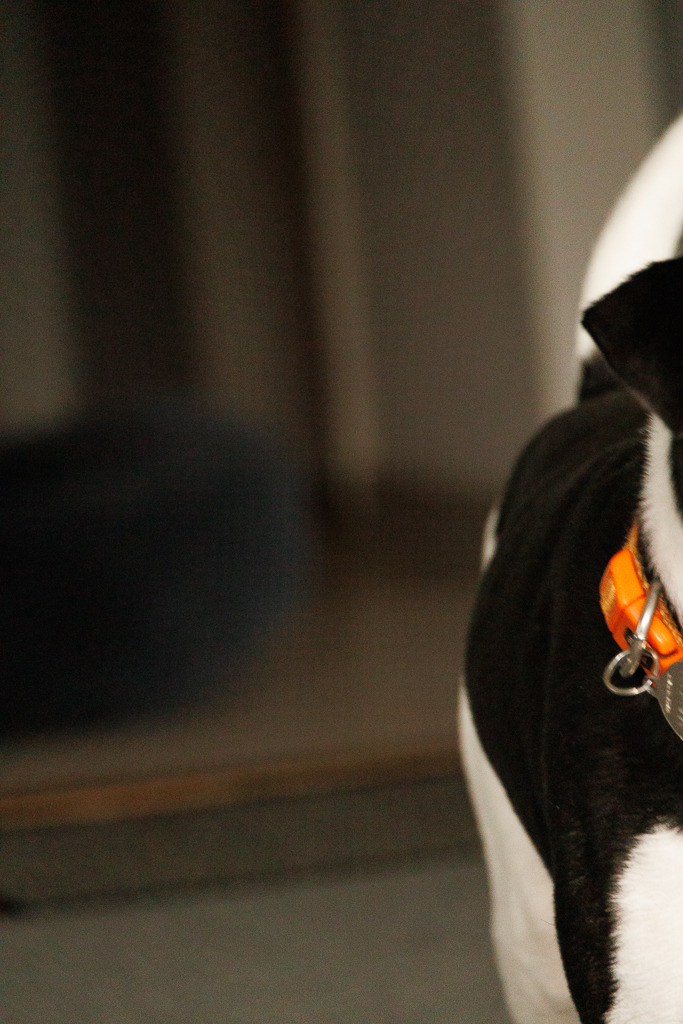Dog: (439, 96, 683, 1024)
